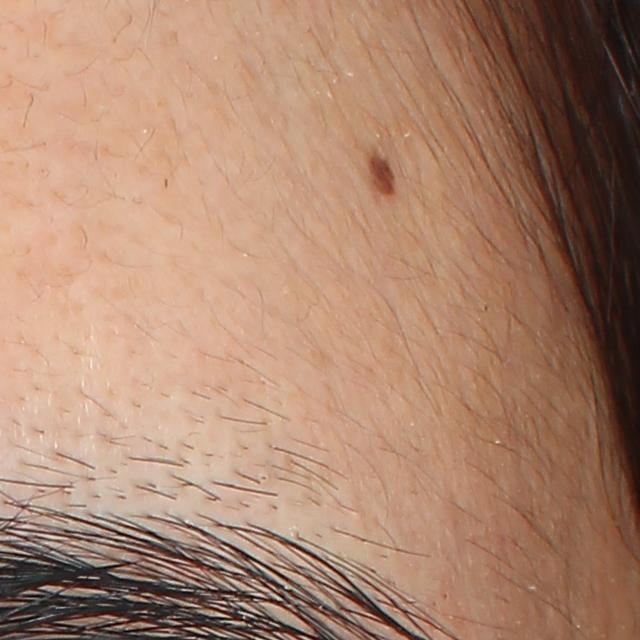nevus: (362, 147, 398, 200)
